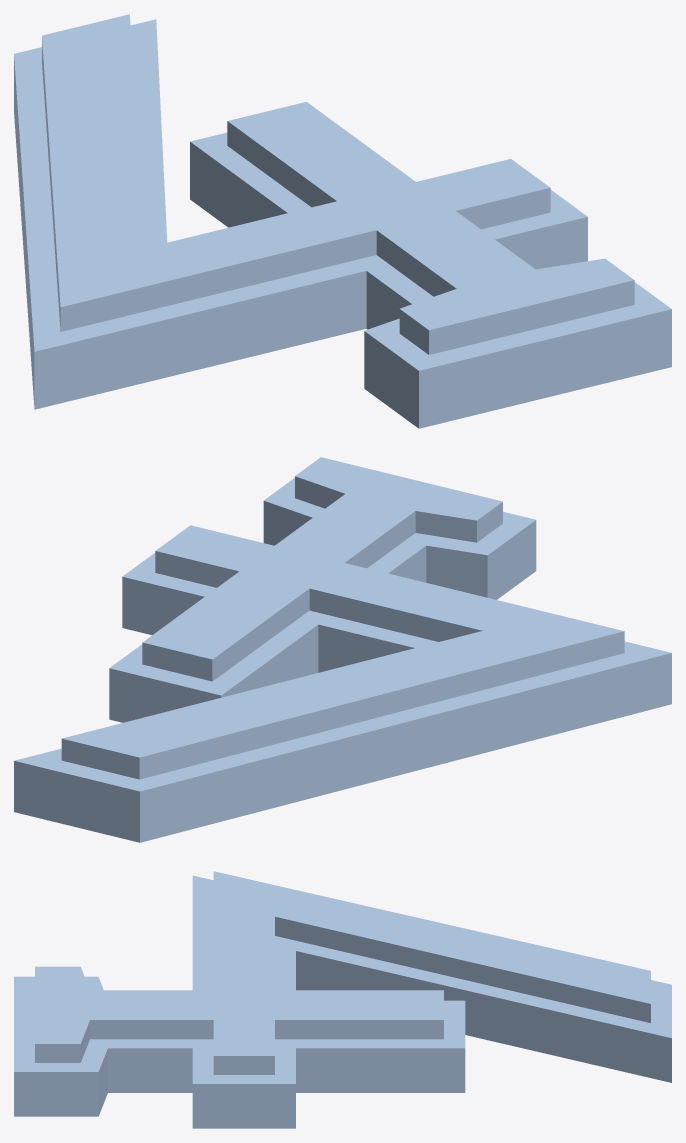
The model's file is King.FBX.
3 renders of one model, top to bottom at view 1: azimuth 30°, elevation 25°; view 2: azimuth 150°, elevation 25°; view 3: azimuth 270°, elevation 25°, orthographic. The views are drawn at different scales.
Visible parts, largest first — view 1: 4; view 2: 4; view 3: 4.
Boxes of the visible parts, box(x1,y1,x2,y2) form: 4: box(14, 14, 671, 428); 4: box(14, 457, 671, 842); 4: box(14, 871, 671, 1128).
Size of the model in its own units: 3.5 by 0.5 by 4.67.
